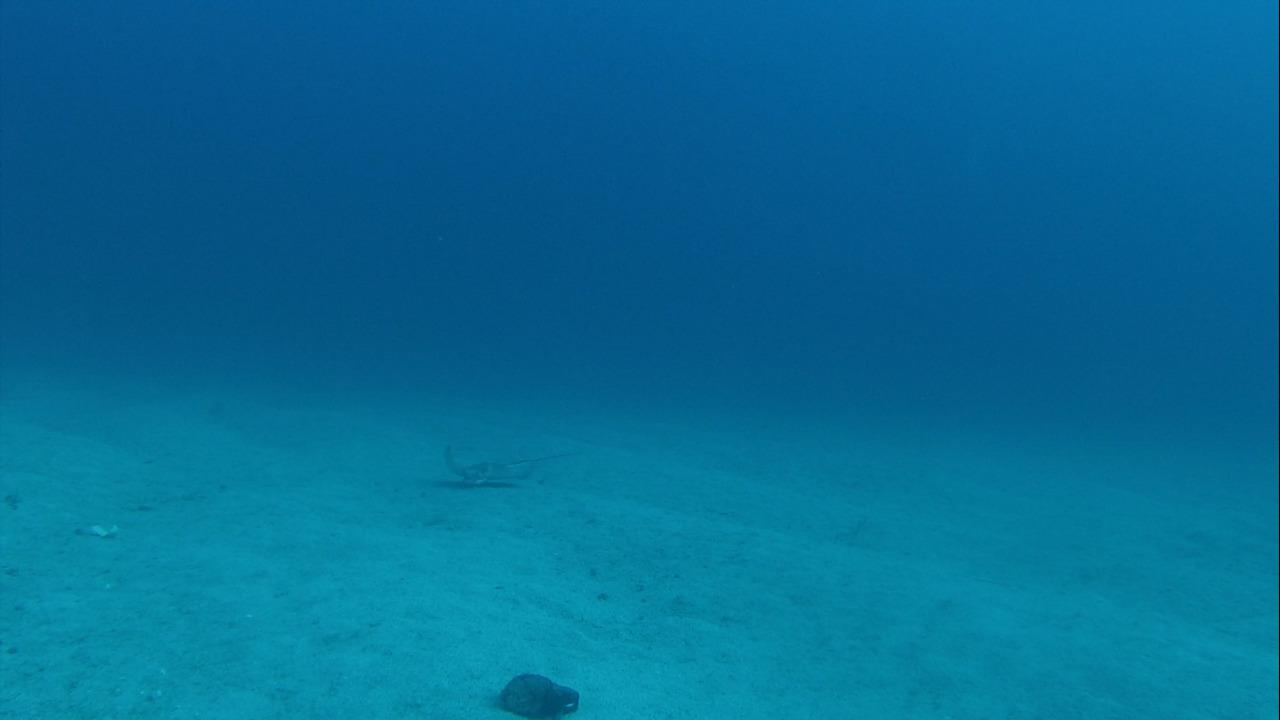myliobatis: (431, 439, 586, 492)
